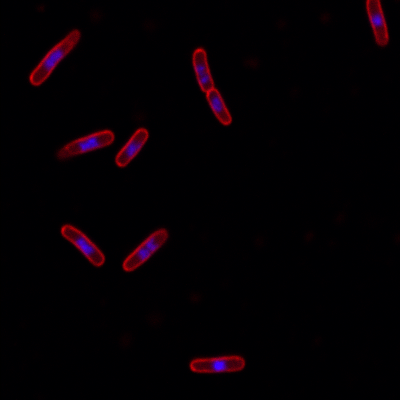Nalidixate: (191, 48, 233, 127), (27, 28, 83, 86), (121, 226, 170, 273), (59, 221, 106, 267), (113, 125, 152, 169), (188, 354, 247, 374)
Oblique: (53, 129, 115, 164)
